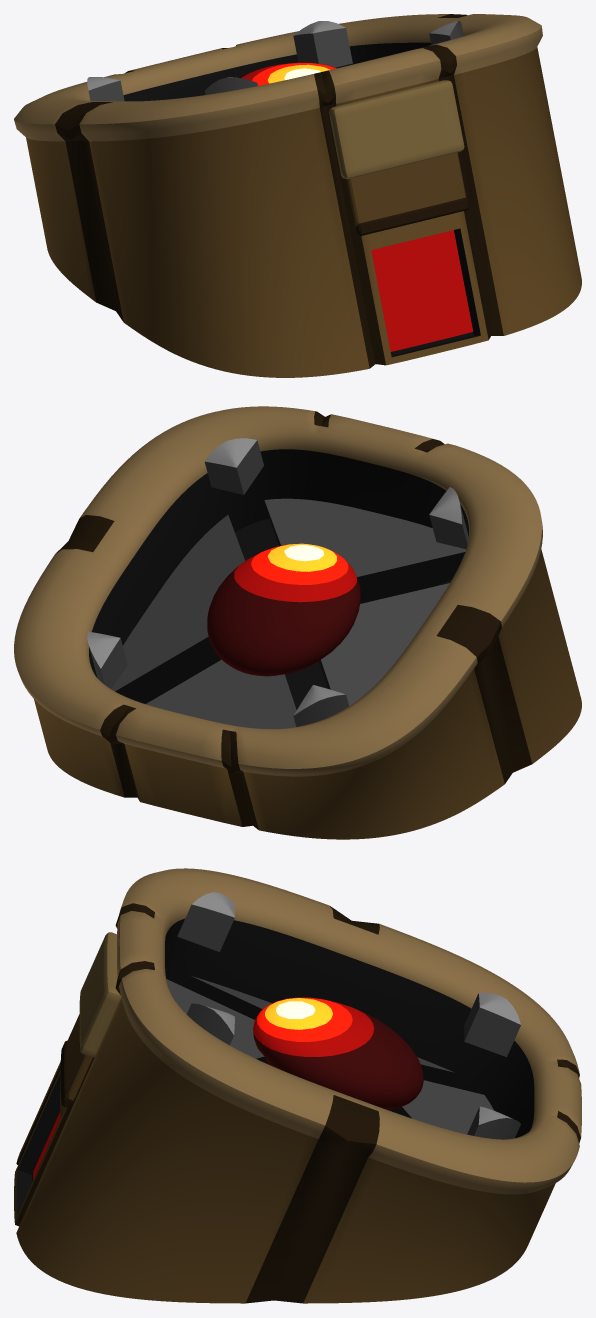
The model's file is eye_tub_207.glb.
The picture shows the model from 3 angles, top to bottom: view 1: azimuth 30°, elevation 25°; view 2: azimuth 150°, elevation 25°; view 3: azimuth 270°, elevation 25°; orthographic projection. The views are drawn at different scales.
Visible parts, largest first — view 1: tub, band, lamp, shutter, petal0, shutter_lip, eye, petal1, petal2, petal3; view 2: tub, eye, housing2, housing3, housing0, housing1, petal3, petal2, petal0, petal1; view 3: tub, eye, band, housing1, petal1, petal2, housing0, housing3, petal0, shutter, petal3.
Boxes of the visible parts, box(x1,y1,x2,y2) form: tub: box(14, 14, 581, 377); band: box(329, 80, 464, 178); lamp: box(371, 230, 473, 351); shutter: box(346, 152, 466, 226); petal0: box(293, 21, 352, 67); shutter_lip: box(355, 197, 469, 235); eye: box(238, 62, 336, 85); petal1: box(87, 77, 124, 101); petal2: box(204, 77, 257, 94); petal3: box(429, 21, 463, 44); tub: box(14, 406, 581, 839); eye: box(207, 543, 360, 676); housing2: box(111, 515, 244, 703); housing3: box(264, 498, 465, 603); housing0: box(318, 583, 449, 705); housing1: box(146, 659, 296, 728); petal3: box(204, 438, 263, 494); petal2: box(429, 487, 468, 549); petal0: box(87, 631, 127, 689); petal1: box(293, 685, 348, 726); tub: box(14, 868, 581, 1303); eye: box(253, 997, 423, 1110); band: box(79, 932, 121, 1057); housing1: box(389, 1080, 493, 1134); petal1: box(464, 993, 520, 1057); petal2: box(177, 892, 234, 951); housing0: box(185, 976, 455, 1086); housing3: box(166, 979, 268, 1064); petal0: box(467, 1106, 520, 1139); shutter: box(66, 1014, 92, 1101); petal3: box(186, 1003, 234, 1045).
Size of the model in its own units: 21.26 by 11.98 by 23.54.
